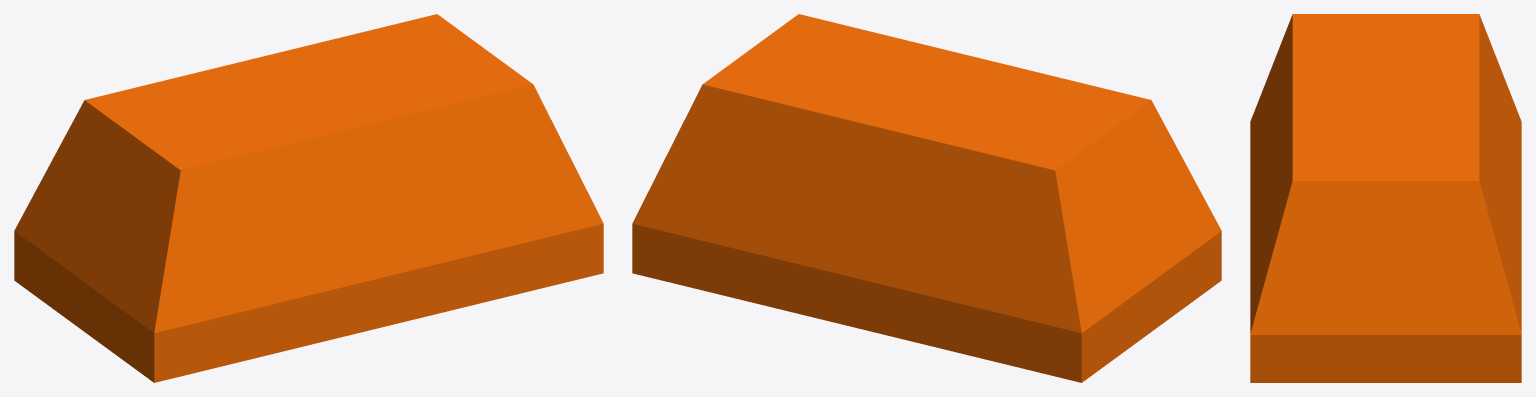
Rendered from GoldBar.fbx.
3 renders of one model, left to right at view 1: azimuth 30°, elevation 25°; view 2: azimuth 150°, elevation 25°; view 3: azimuth 270°, elevation 25°, orthographic. The views are drawn at different scales.
Parts seen in each view (by area): view 1: Gold; view 2: Gold; view 3: Gold.
Part boxes in pixels (x1,y1,x2,y2): Gold: (14,14,603,382); Gold: (632,14,1221,382); Gold: (1250,14,1521,382).
Bounding box in the file's own units: 148 × 58.16 × 79.9.
